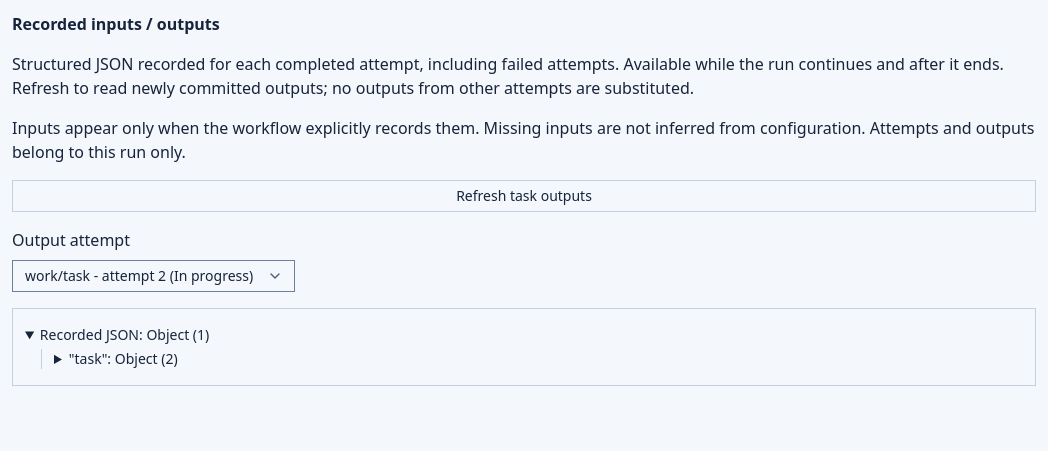
Test: TaskOutputs › filters graph attempts by exact node and defaults to its latest recorded attempt
Expected: the element named "Attempt JSON outputs" shows "Recorded JSON: Object", top-left (12, 308), bottom-right (1036, 386)
Expected: the dropdown labelled "Output attempt" shows "work/task - attempt 2 (In progress)", top-left (12, 260), bottom-right (295, 292)
What coordinates should you click on to do the following:
click the heading "\"task\": Object (2)"
I would click on:
 (123, 358)
Its box is top-left (69, 349), bottom-right (178, 368).
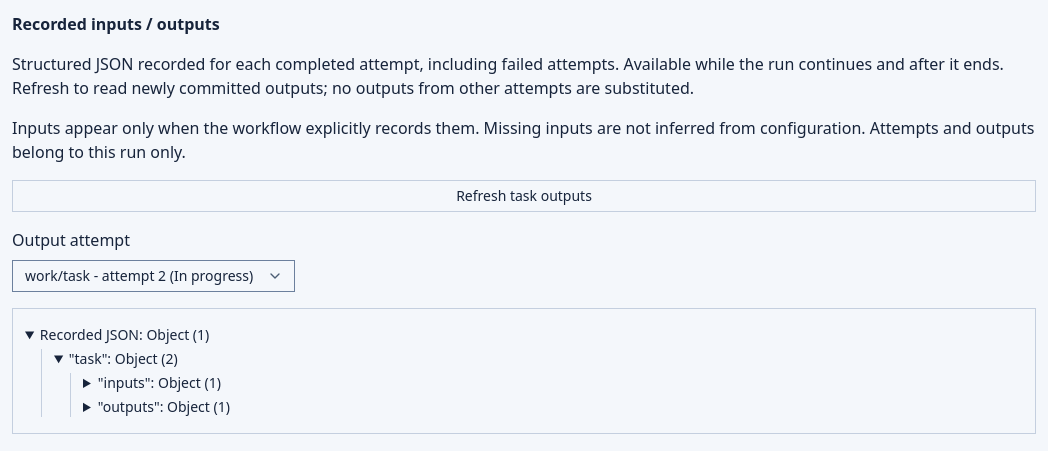
Now the heading "\"inputs\": Object (1)" is shown, box top-left (98, 373), bottom-right (221, 392)
Now the heading "\"outputs\": Object (1)" is shown, box top-left (98, 397), bottom-right (230, 416)
